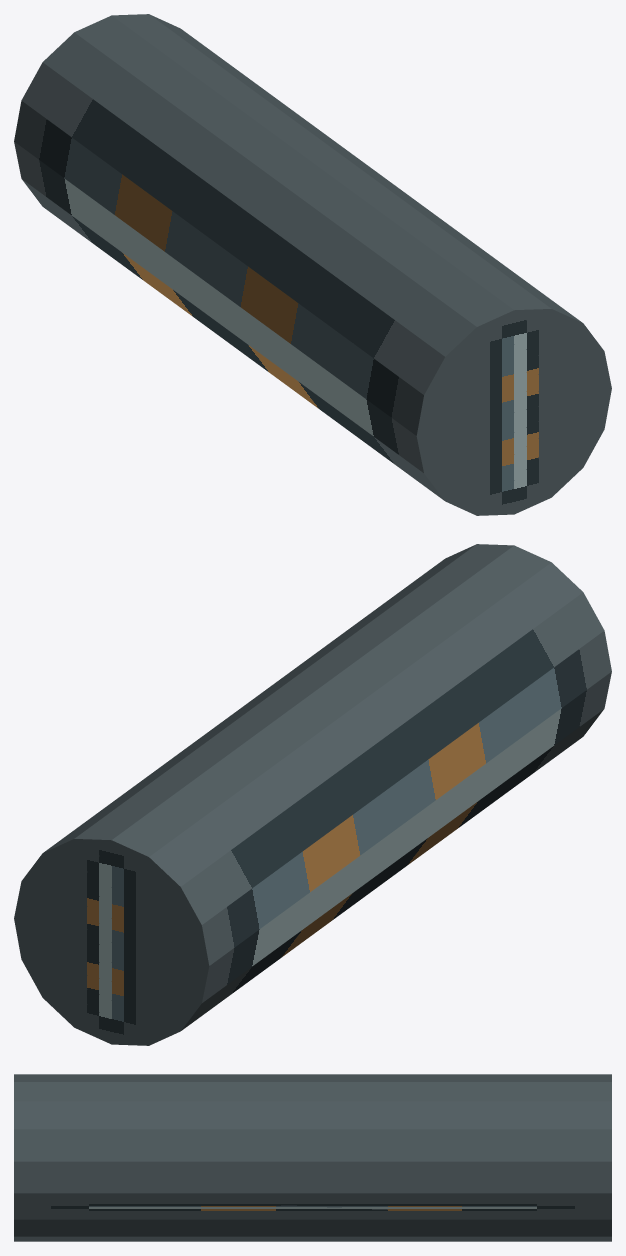
File: rotor_axle.obj
3 views of the same model, one above another, from view 1: azimuth 30°, elevation 25°; view 2: azimuth 150°, elevation 25°; view 3: azimuth 270°, elevation 25° (orthographic). The views are drawn at different scales.
Parts seen in each view (by area): view 1: rotor_axle; view 2: rotor_axle; view 3: rotor_axle.
Part boxes in pixels (x1,y1,x2,y2): rotor_axle: [14, 14, 611, 515]; rotor_axle: [14, 544, 611, 1045]; rotor_axle: [14, 1074, 611, 1241].
Bounding box in the file's own units: 0.28 × 0.28 × 1.
